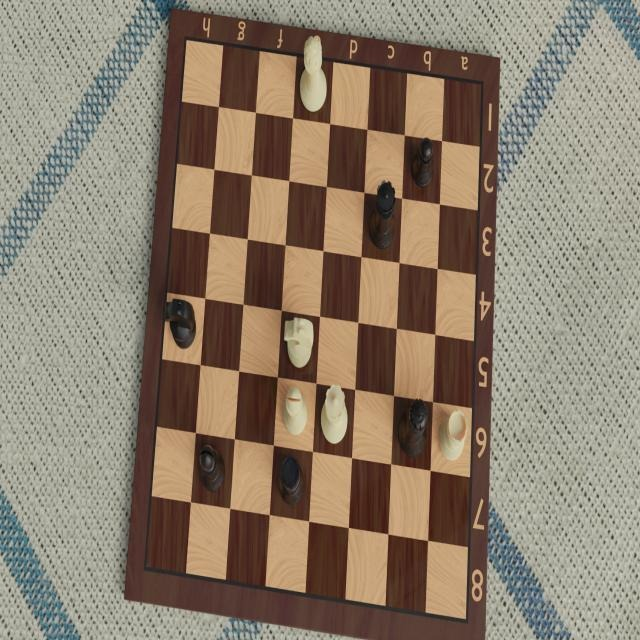black-bishop: (196, 439, 228, 497)
black-king: (398, 395, 432, 465)
black-knight: (165, 291, 199, 357)
black-pawn: (408, 135, 436, 195)
black-queen: (364, 179, 399, 252)
black-rook: (277, 453, 306, 507)
white-bishop: (278, 380, 310, 441)
white-king: (296, 36, 330, 119)
white-knight: (279, 312, 317, 375)
white-queen: (315, 383, 349, 449)
white-rook: (439, 406, 469, 467)
